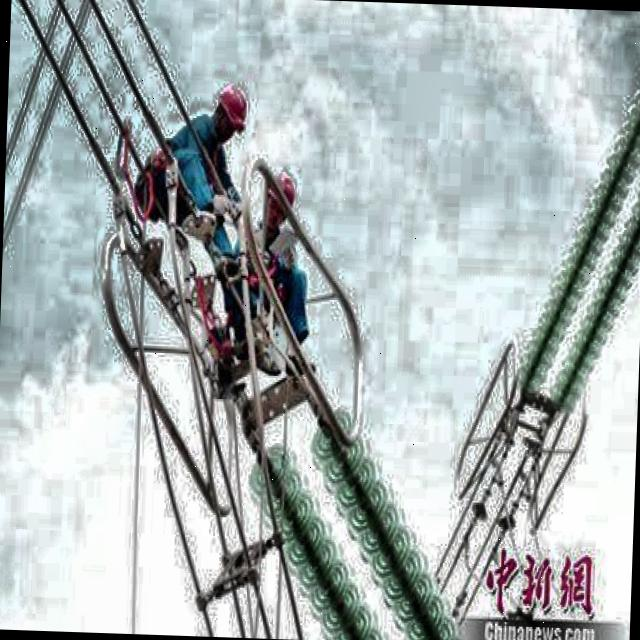helmet: (208, 78, 250, 144), (262, 162, 296, 237)
